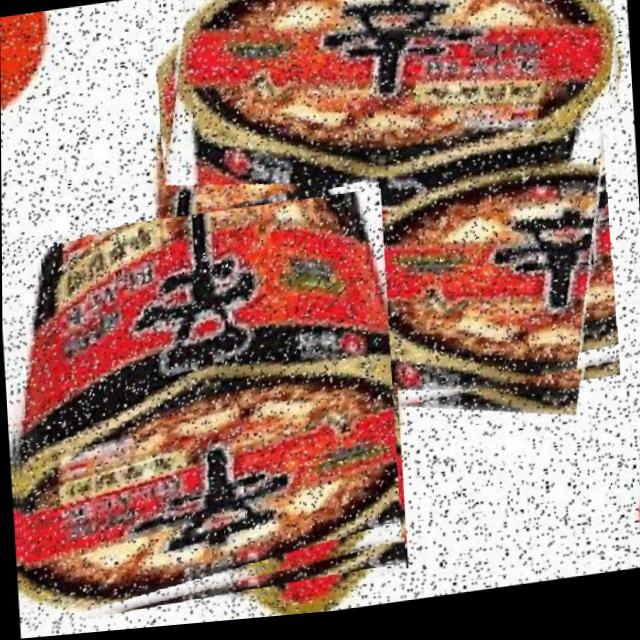Miscellaneous: (134, 0, 640, 460), (1, 192, 402, 637)
